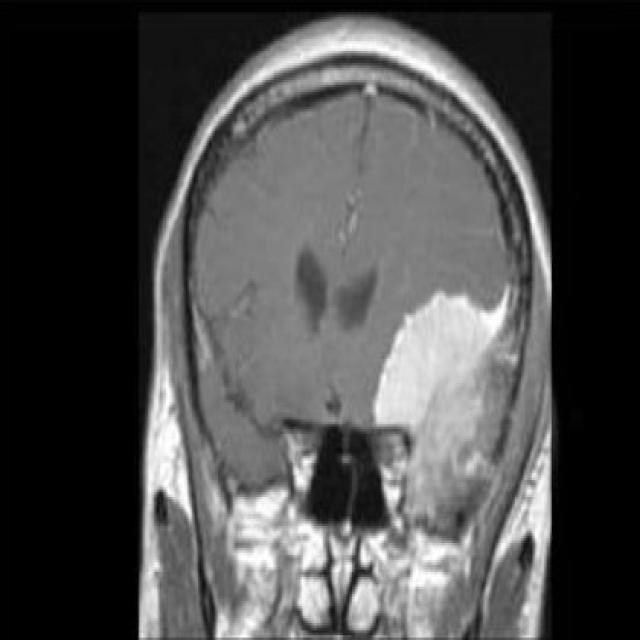Meningioma: (371, 276, 520, 540)
